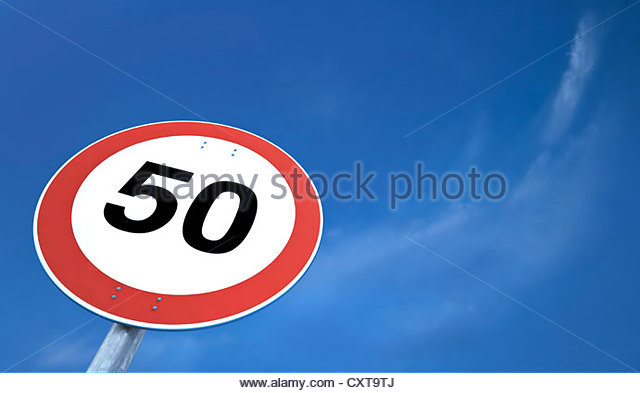Speed_limit_50km: (32, 119, 329, 327)
